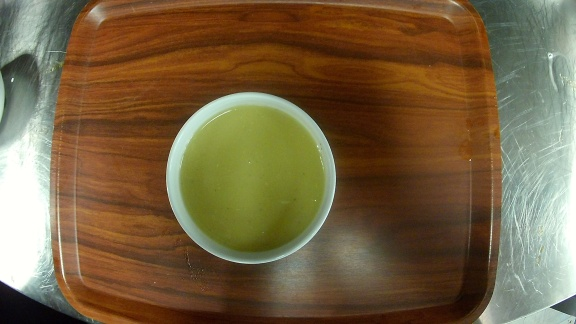mercimek: (163, 91, 338, 266)
